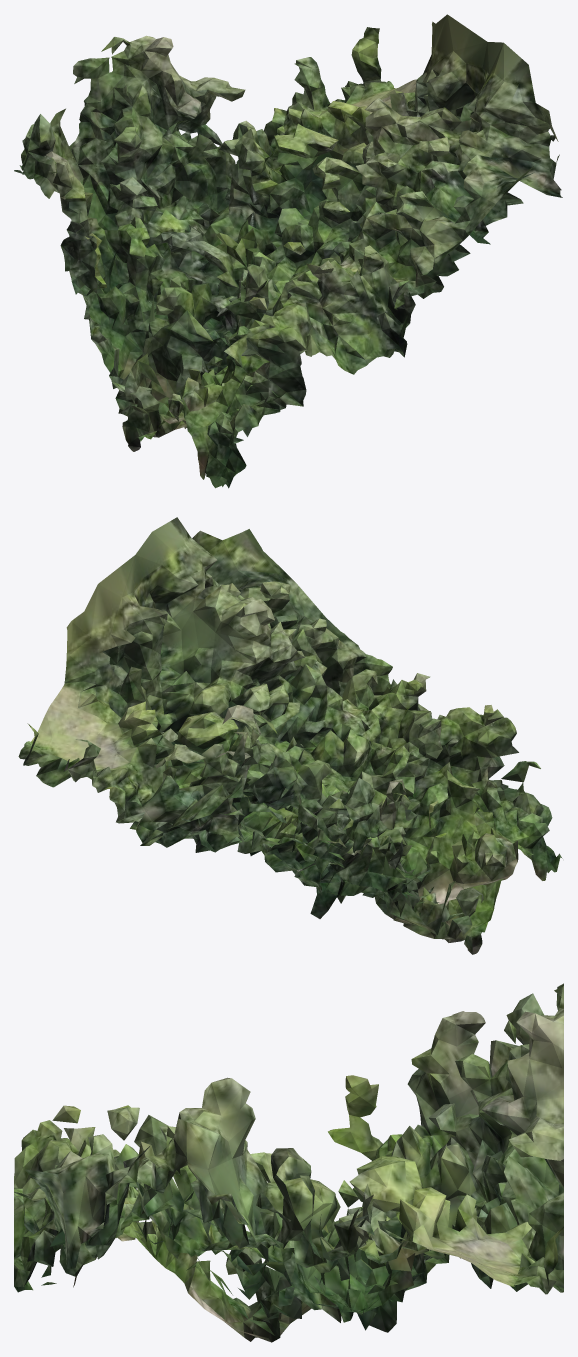
The picture shows the model from 3 angles, top to bottom: view 1: azimuth 30°, elevation 25°; view 2: azimuth 150°, elevation 25°; view 3: azimuth 270°, elevation 25°; orthographic projection. The views are drawn at different scales.
Size of the model in its own units: 104 by 92.73 by 104.
9 materials, 9 textured.
